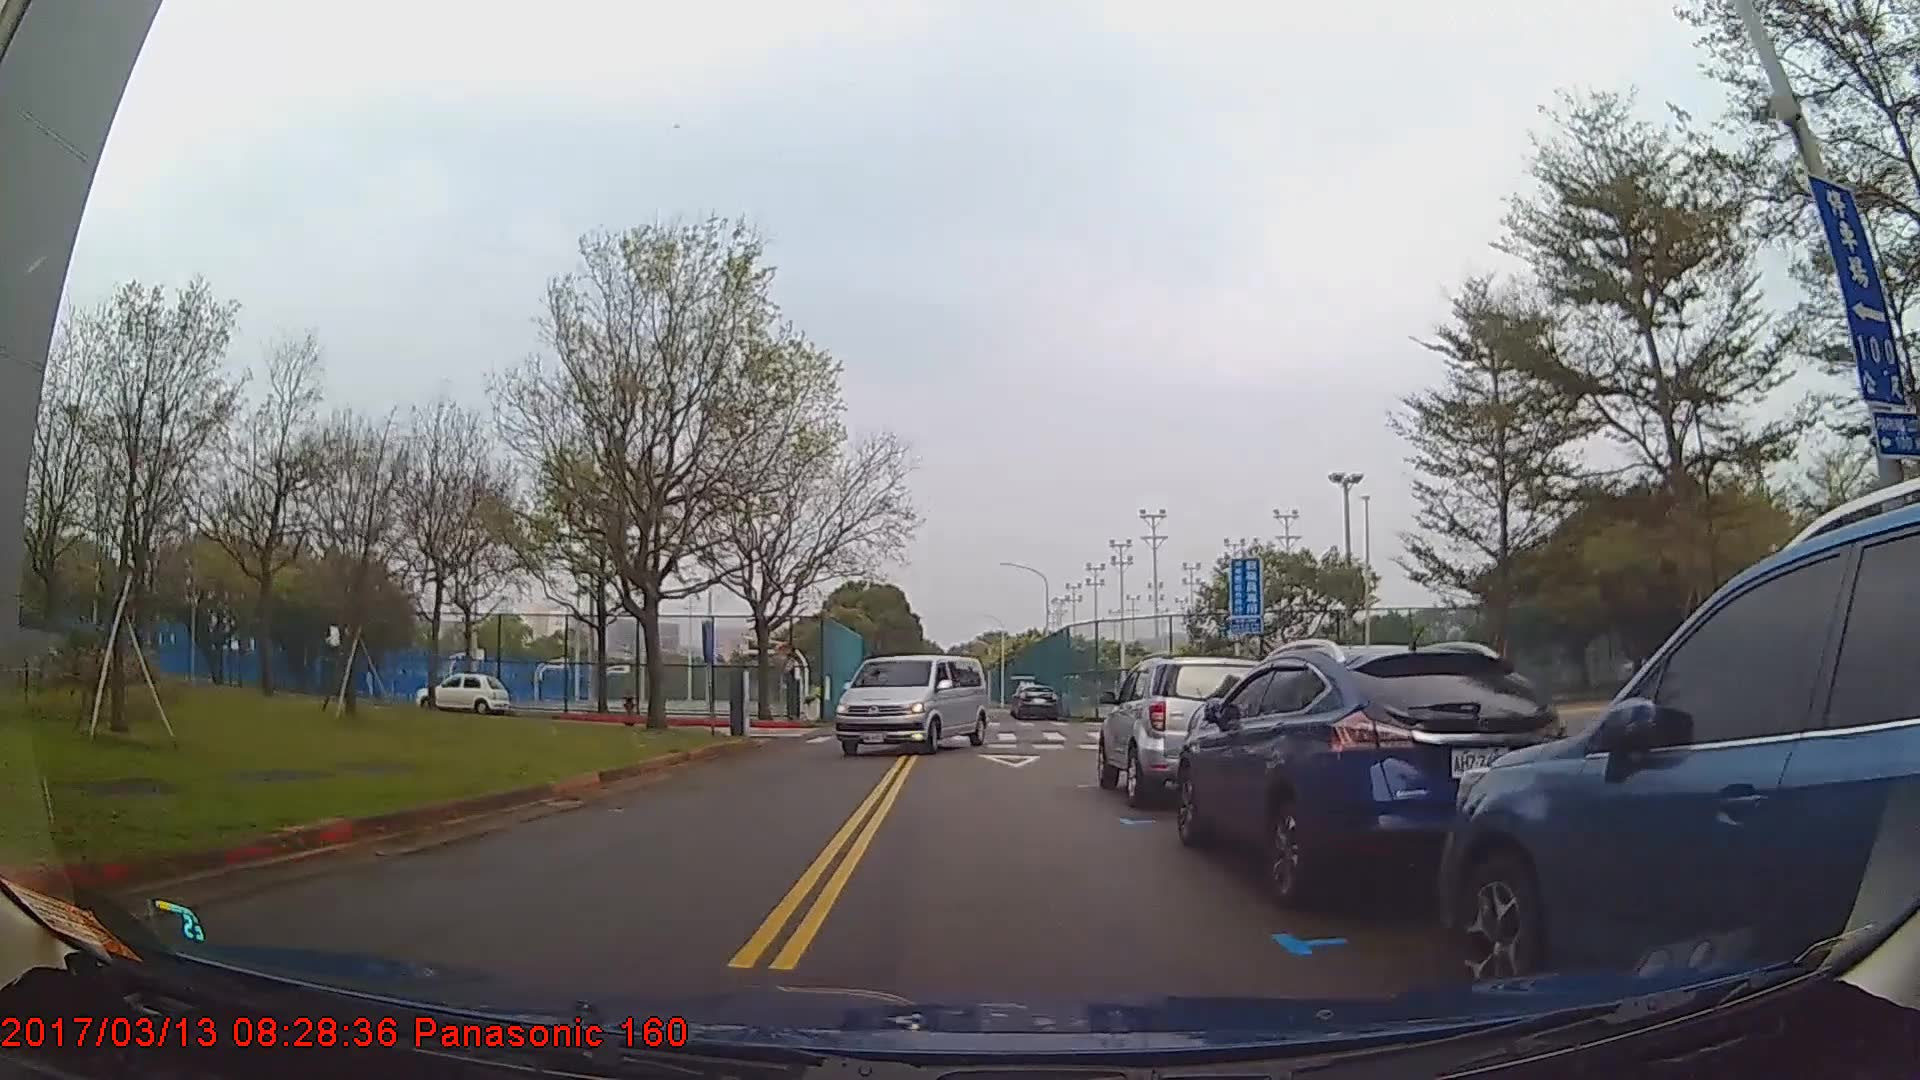vehicle: (1435, 504, 1919, 1015), (1175, 641, 1571, 909), (1097, 655, 1273, 806), (833, 651, 989, 756), (415, 670, 509, 715), (1014, 679, 1060, 719)
